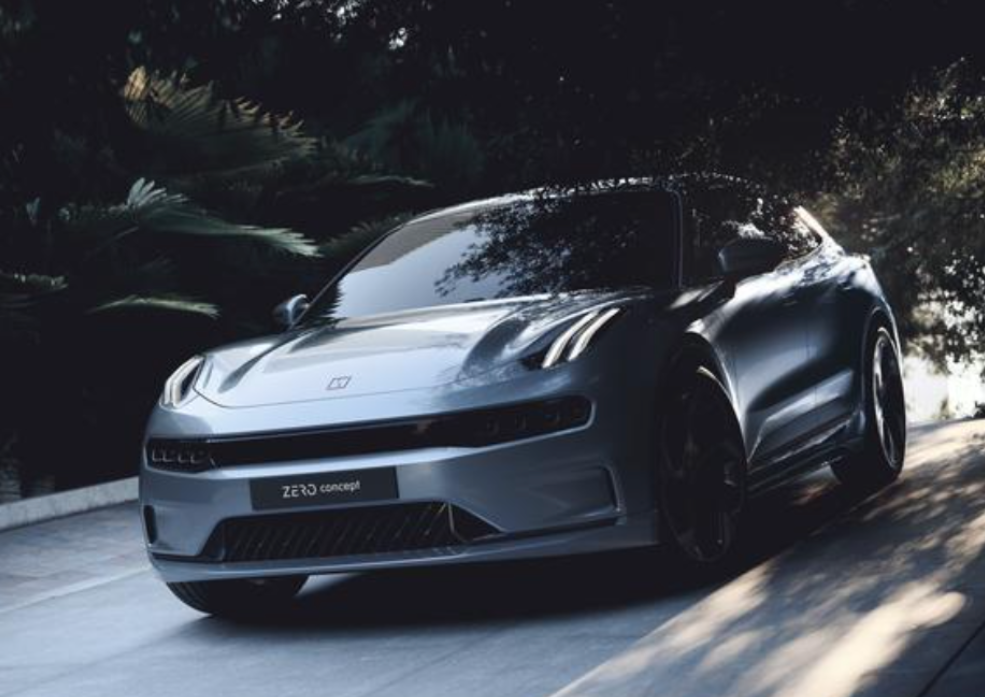other: (142, 158, 918, 626)
